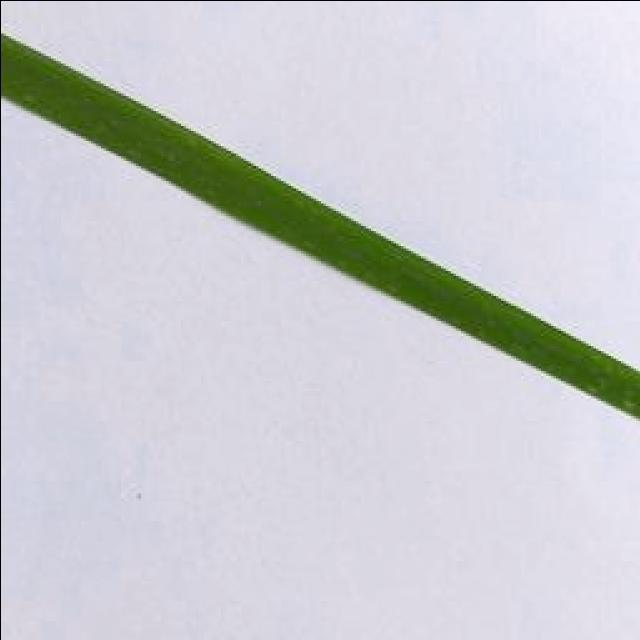Healthy: (0, 28, 640, 420)
